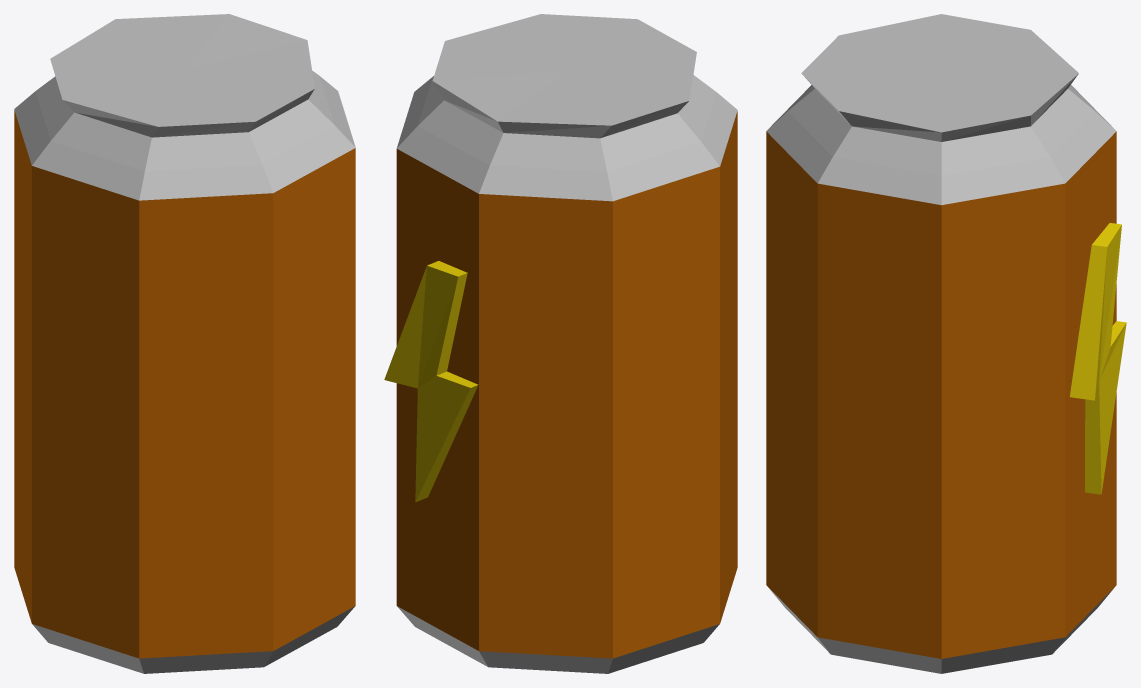
The model's file is speed_up.fbx.
3 renders of one model, left to right at view 1: azimuth 30°, elevation 25°; view 2: azimuth 150°, elevation 25°; view 3: azimuth 270°, elevation 25°, orthographic.
Visible parts, largest first — view 1: polySurface2; view 2: polySurface2; view 3: polySurface2.
Boxes of the visible parts, left/top/right/bottom form: polySurface2: left=14, top=14, right=355, bottom=673; polySurface2: left=384, top=14, right=737, bottom=673; polySurface2: left=766, top=14, right=1126, bottom=673.
Size of the model in its own units: 2.23 by 3.79 by 2.3.
